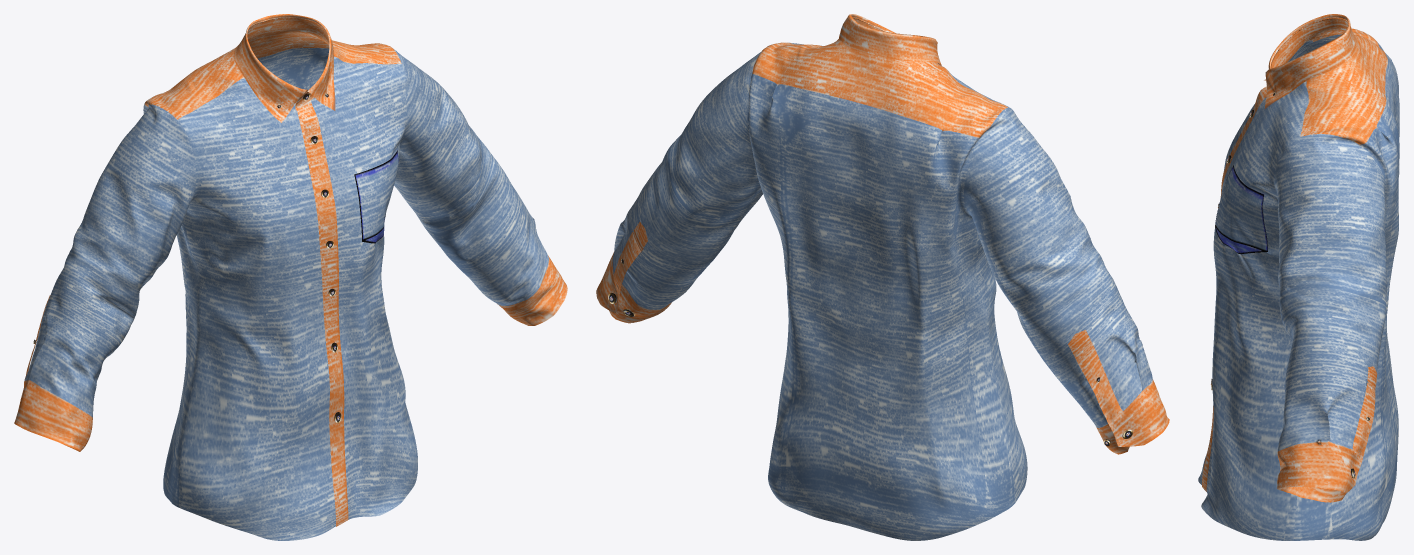
Rendered from full-shirt.glb.
3 views of the same model, side by side, from view 1: azimuth 30°, elevation 25°; view 2: azimuth 150°, elevation 25°; view 3: azimuth 270°, elevation 25° (orthographic). The views are drawn at different scales.
Parts seen in each view (by area): view 1: Men's Shirt; view 2: Men's Shirt; view 3: Men's Shirt.
Boxes of the visible parts, bbox=[...] form: Men's Shirt: bbox=[14, 14, 567, 540]; Men's Shirt: bbox=[596, 14, 1169, 540]; Men's Shirt: bbox=[1198, 14, 1399, 540].
Bounding box in the file's own units: 1.74 × 1.44 × 0.5511.
2 materials, 2 textured.
